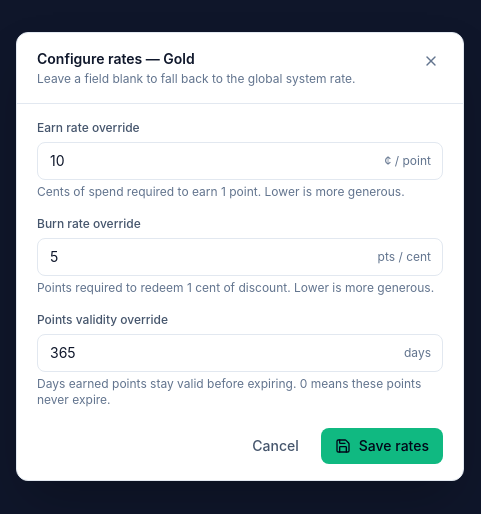
Test: RateConfigModal › validates that validity days must not be negative
Replace the text in the number field labelled "Points validity override" with "-1": (240,352) [37,334,443,372]
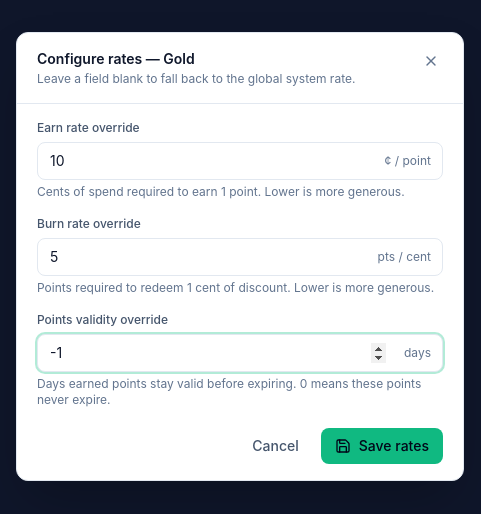
Click the button "Save rates": (382,446) [321,428,443,464]
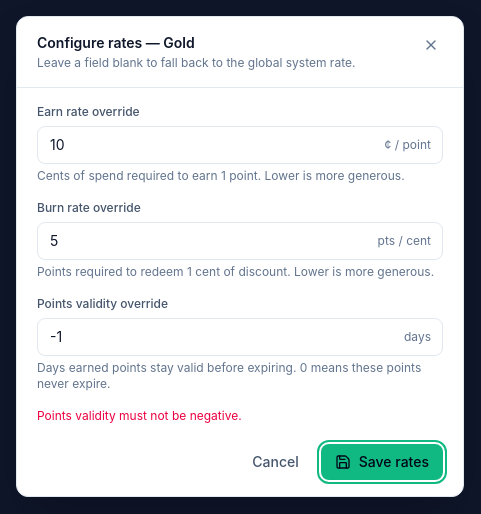
Expected: the text "Points validity must not be negative." is shown, [37,408,242,422]
